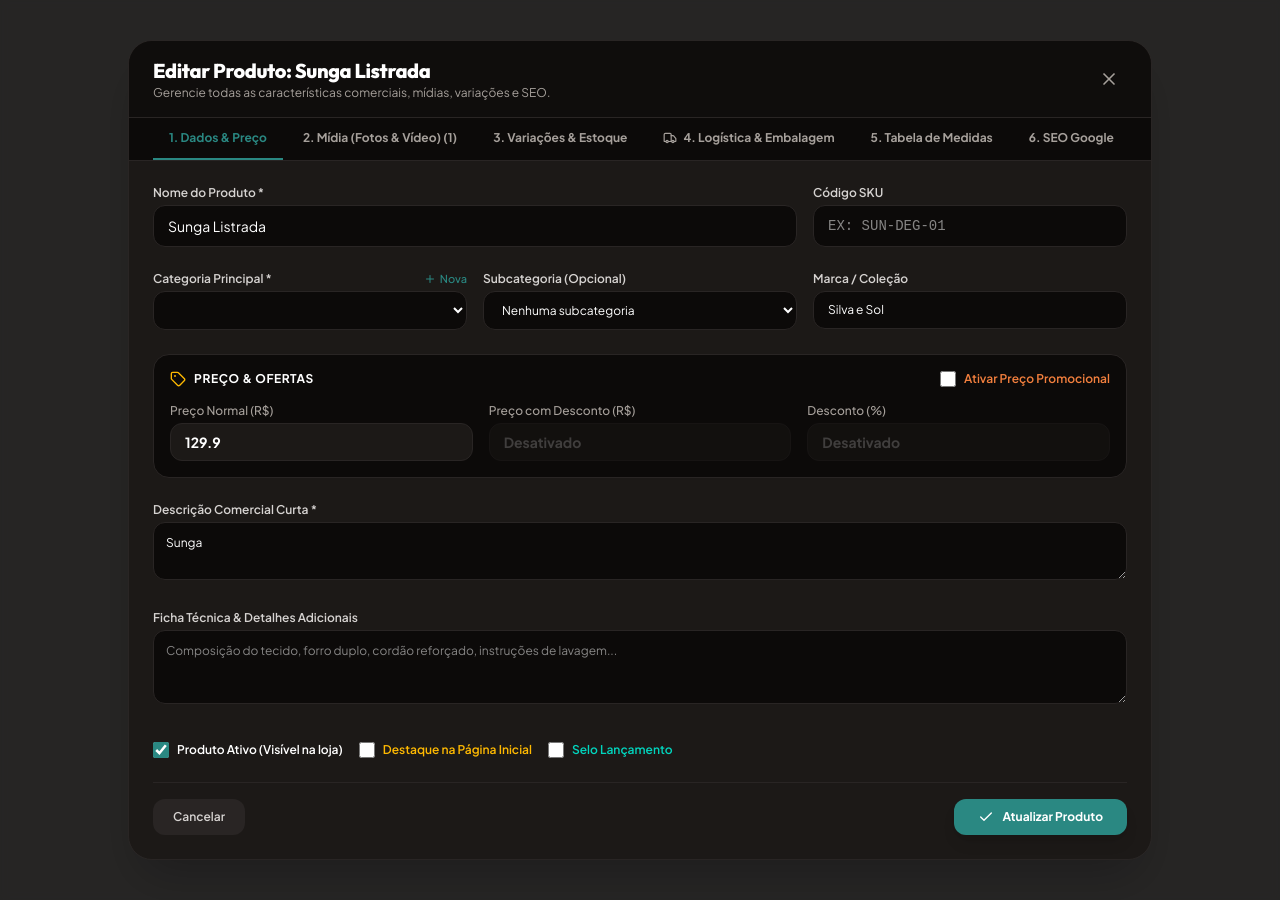
Test: AdminProductModal - erro de promoção › mostra o aviso junto ao botão de salvar e marca o preço promocional
Click the checkbox labelled "Ativar Preço Promocional".
click(948, 379)  # box [940,371,956,387]
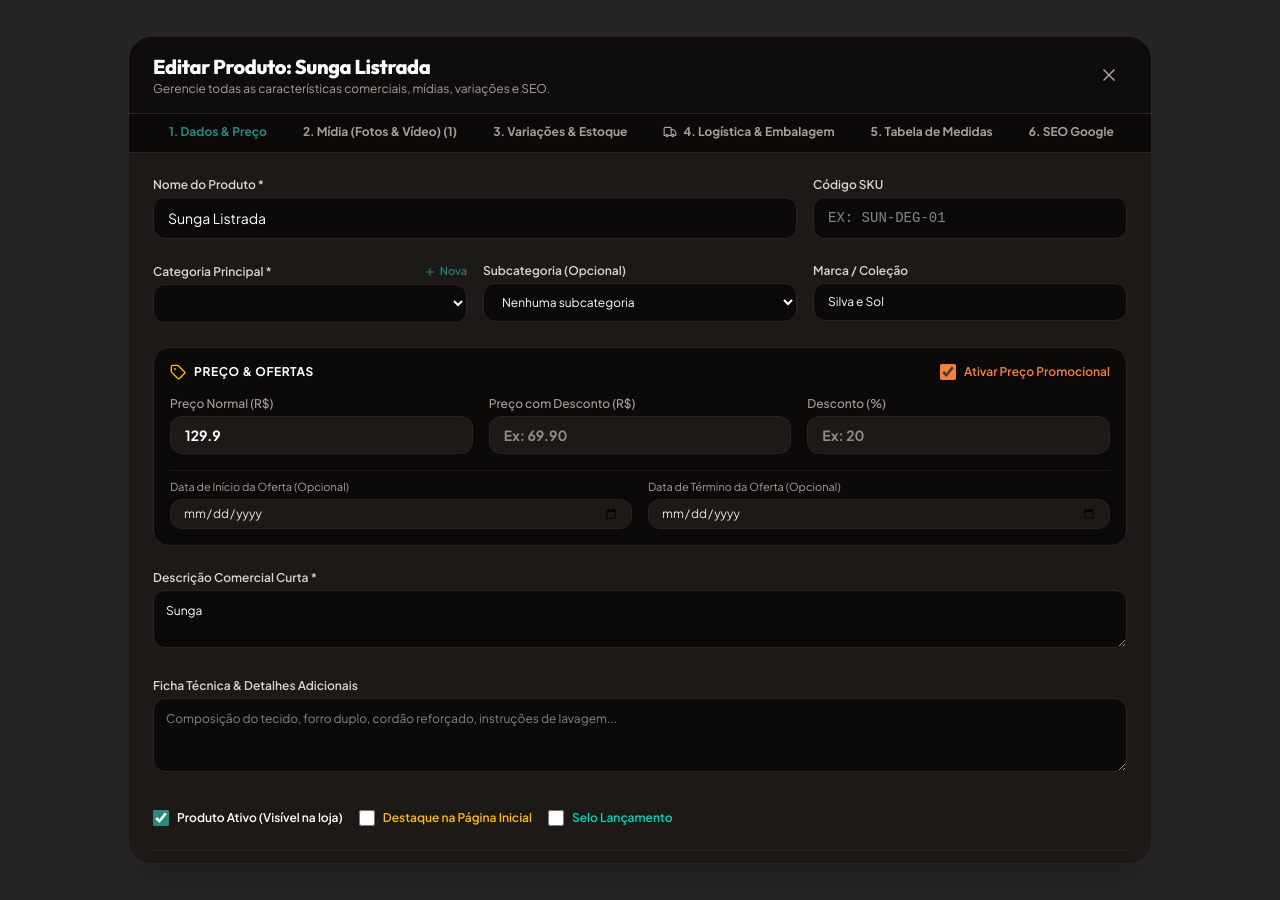
Type "149.51" into the number field labelled "Preço com Desconto (R$)".
click(640, 435); type("149.51")  # box [489,416,791,454]
(page scrolled)
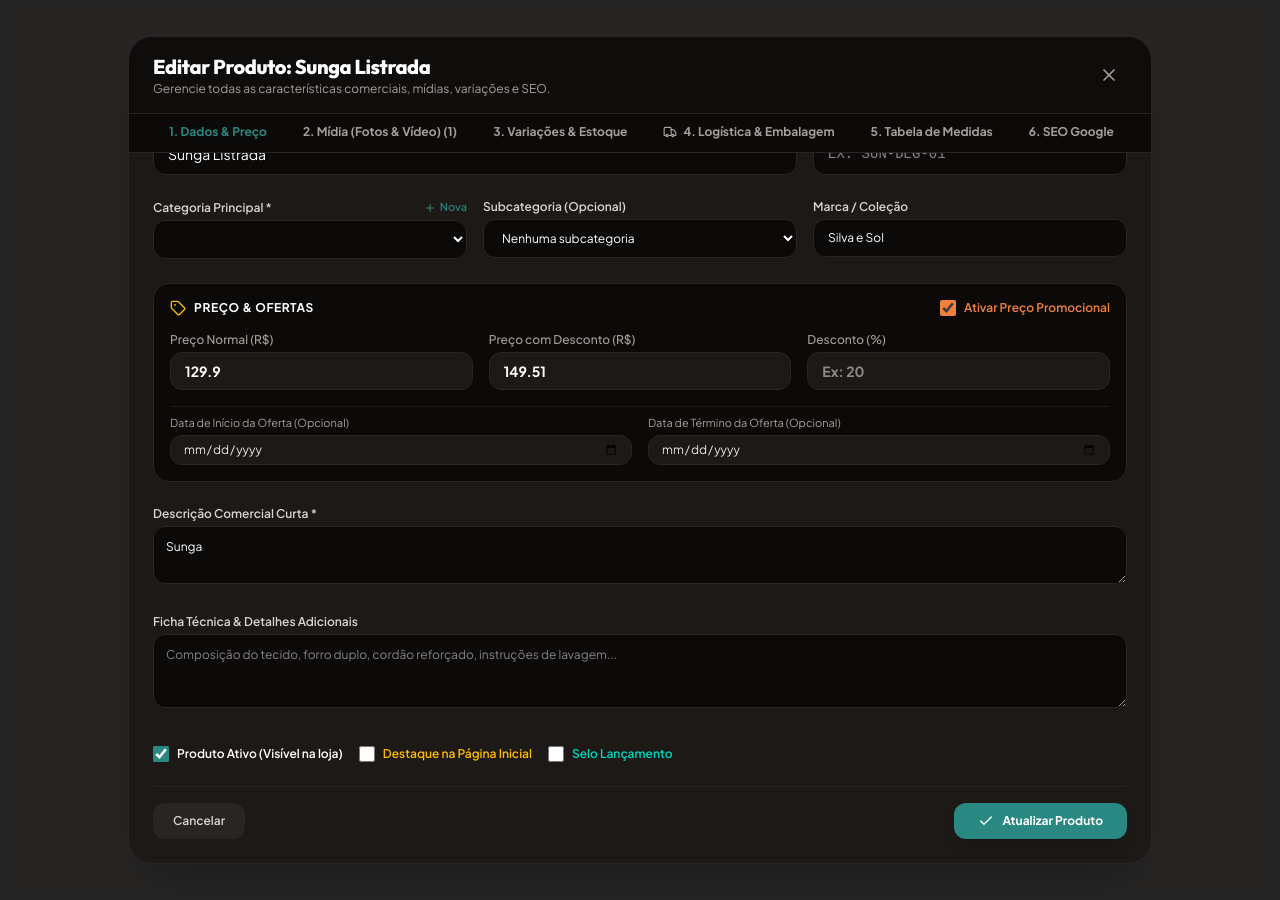
Click the button "Atualizar Produto".
click(1041, 821)  # box [954,803,1127,839]
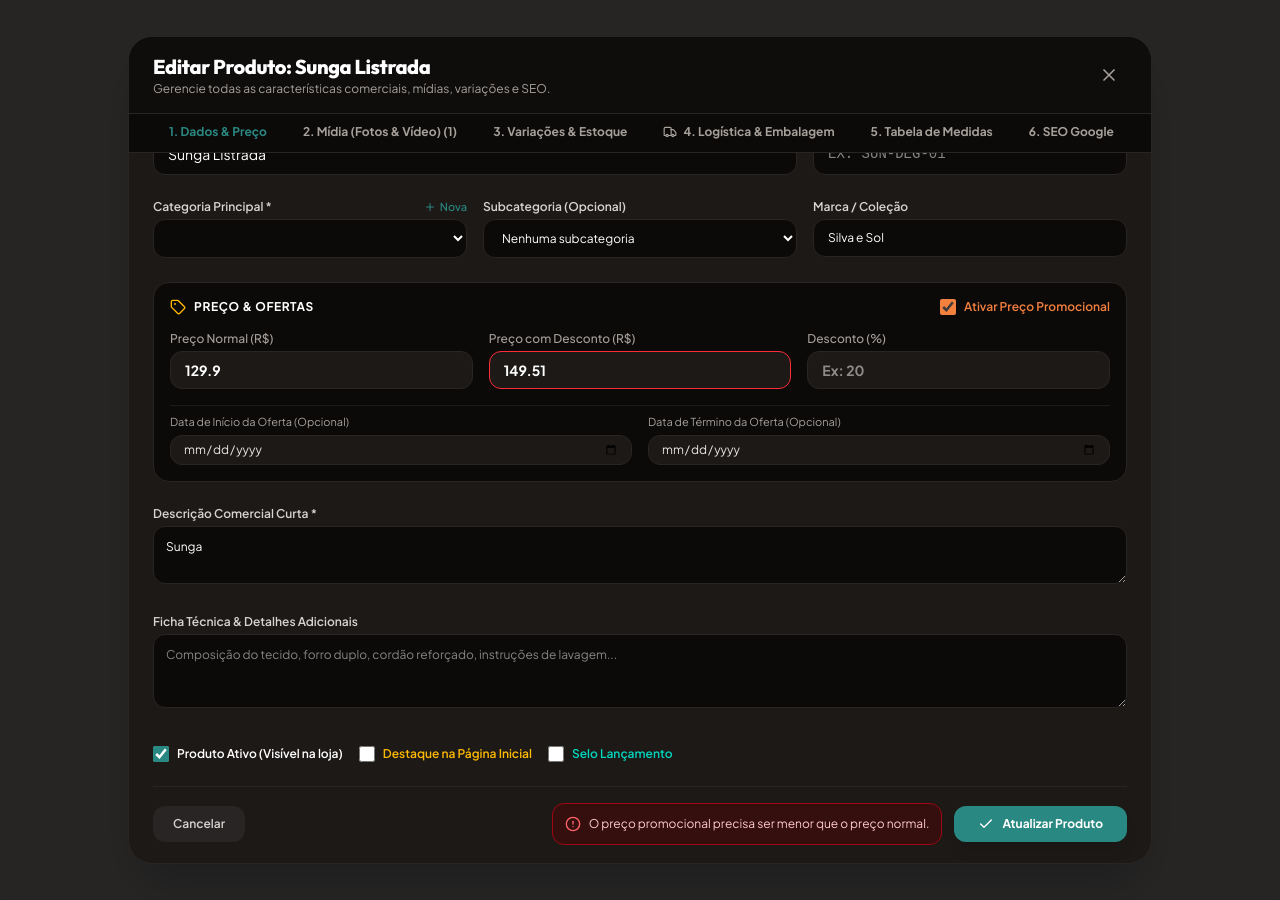
Now the message reads "O preço promocional precisa ser menor que o preço normal.", box [589,816,929,831]
Now the number of messages is 1, box [552,803,942,845]
